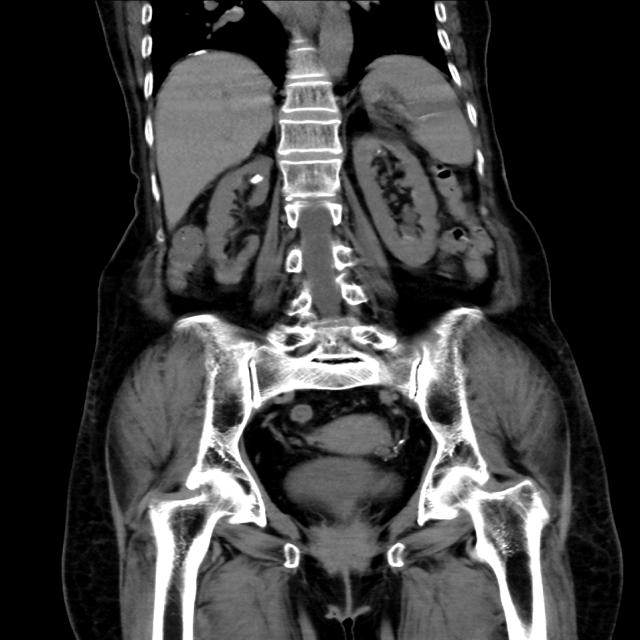kidneystone: (250, 174, 263, 184)
